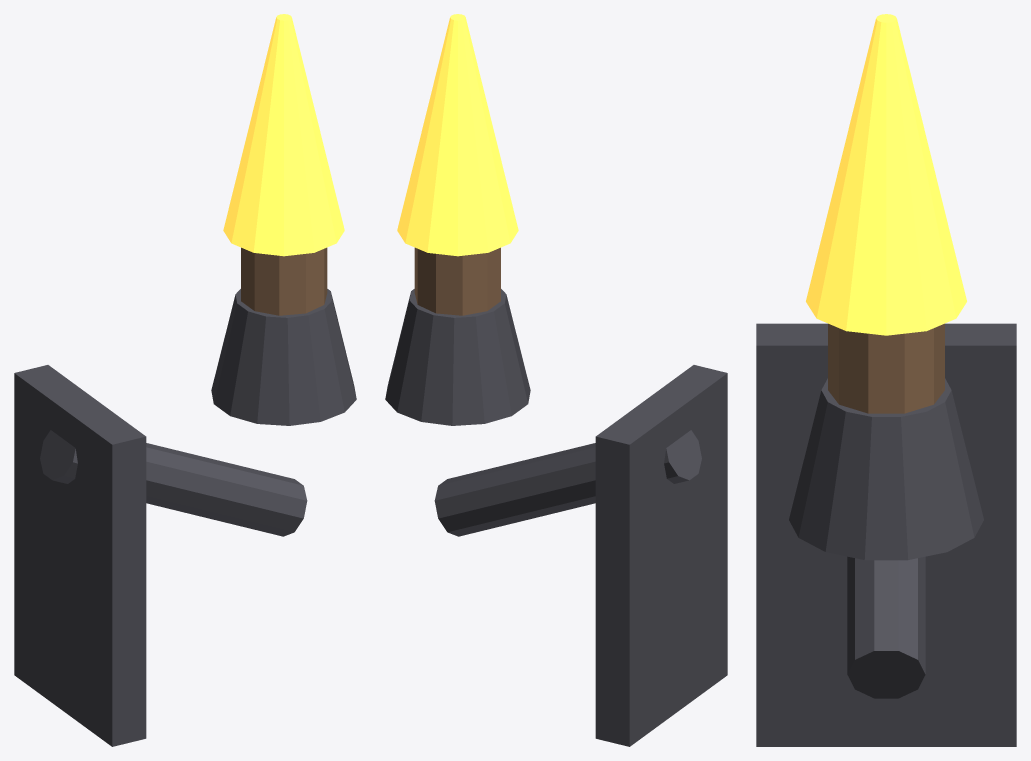
Rendered from torch.glb.
The picture shows the model from 3 angles, left to right: view 1: azimuth 30°, elevation 25°; view 2: azimuth 150°, elevation 25°; view 3: azimuth 270°, elevation 25°; orthographic projection. The views are drawn at different scales.
Visible parts, largest first — view 1: to_plate, flame, to_cup, to_arm, to_char; view 2: to_plate, flame, to_cup, to_arm, to_char; view 3: to_plate, flame, to_cup, to_arm, to_char.
Part boxes in pixels (box(x1,y1,x2,y2)): to_plate: box(14, 365, 146, 746); flame: box(223, 14, 344, 256); to_cup: box(211, 289, 356, 425); to_arm: box(40, 430, 307, 536); to_char: box(241, 247, 327, 315); to_plate: box(595, 365, 727, 746); flame: box(397, 14, 518, 256); to_cup: box(385, 289, 530, 425); to_arm: box(434, 430, 701, 536); to_char: box(414, 247, 500, 315); to_plate: box(756, 323, 1016, 746); flame: box(806, 14, 966, 335); to_cup: box(789, 378, 983, 560); to_arm: box(847, 556, 925, 698); to_char: box(828, 323, 944, 413).
Bounding box in the file's own units: 0.3511 × 0.72 × 0.2.
